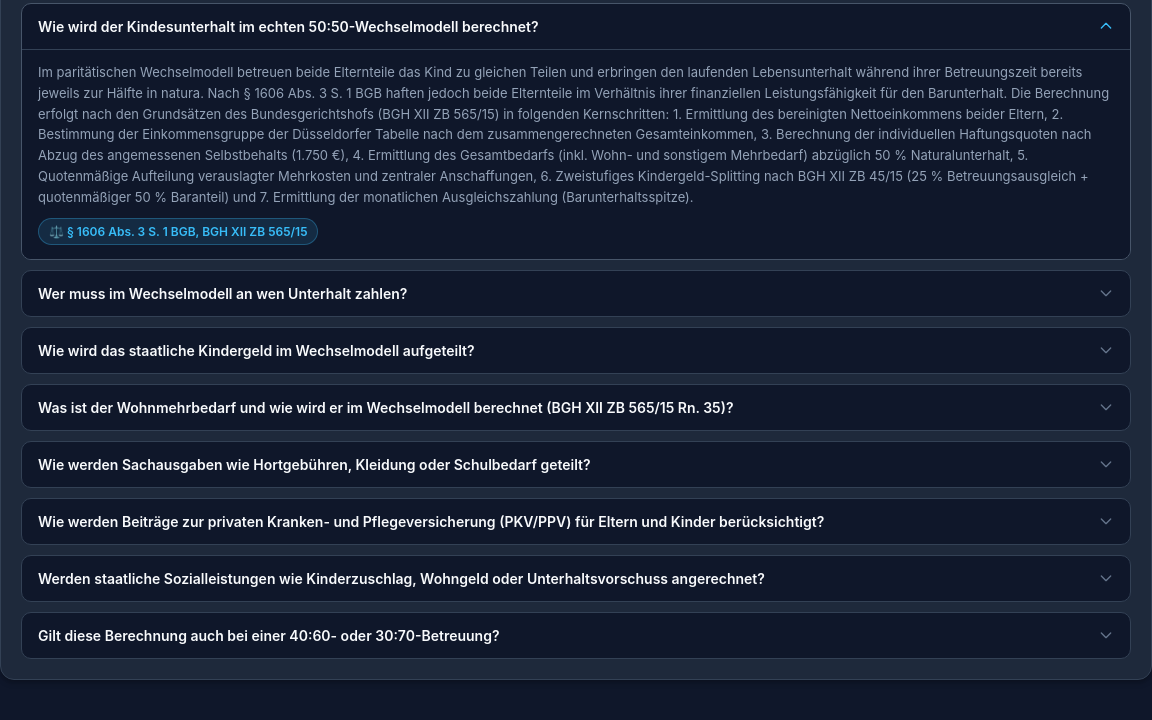
Test case: FaqSection (SEO & Rechtsinformationen) › zeigt rechtliche Hintergründe zur Abgrenzung bei asymmetrischer Betreuung (40:60)
The width and height of the screenshot is (1152, 720).
(page scrolled)
Click the button "Gilt diese Berechnung auch bei einer 40:60- oder 30:70-Betreuung?" at (269,635), box x1=22 y1=613 x2=1130 y2=658
(page scrolled)
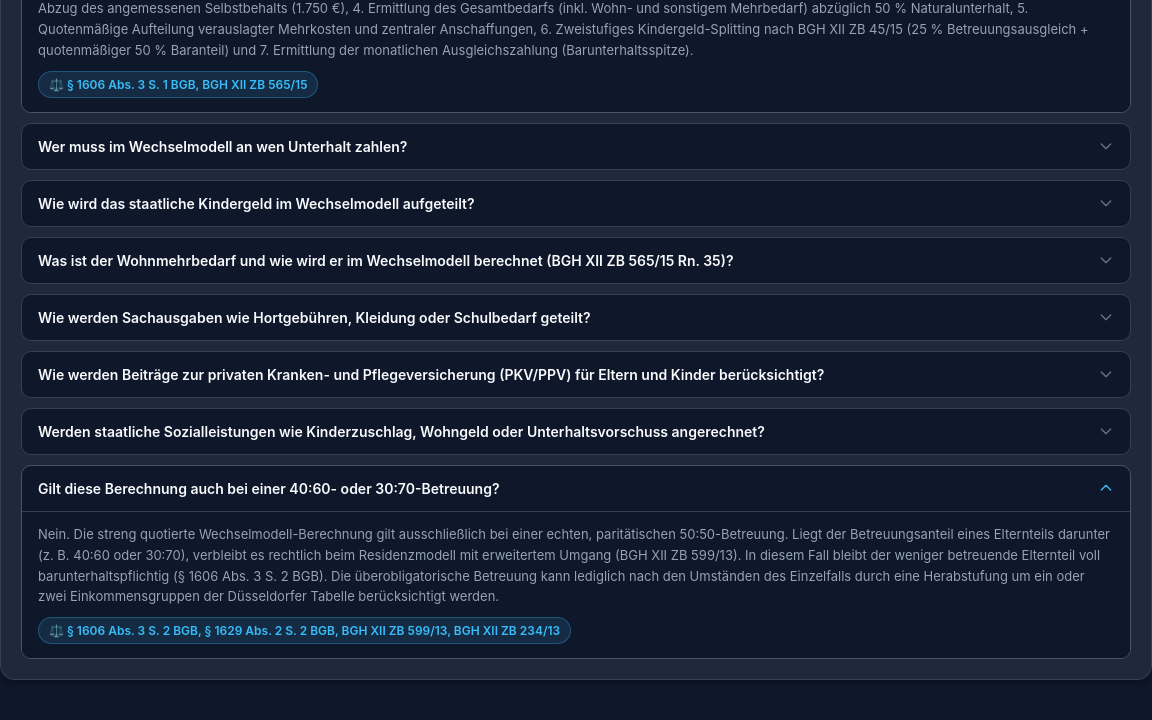
Check: the text "BGH XII ZB 599/13" is shown, box x1=38 y1=526 x2=1110 y2=604
Check: the text "BGH XII ZB 234/13" is shown, box x1=67 y1=623 x2=560 y2=638
